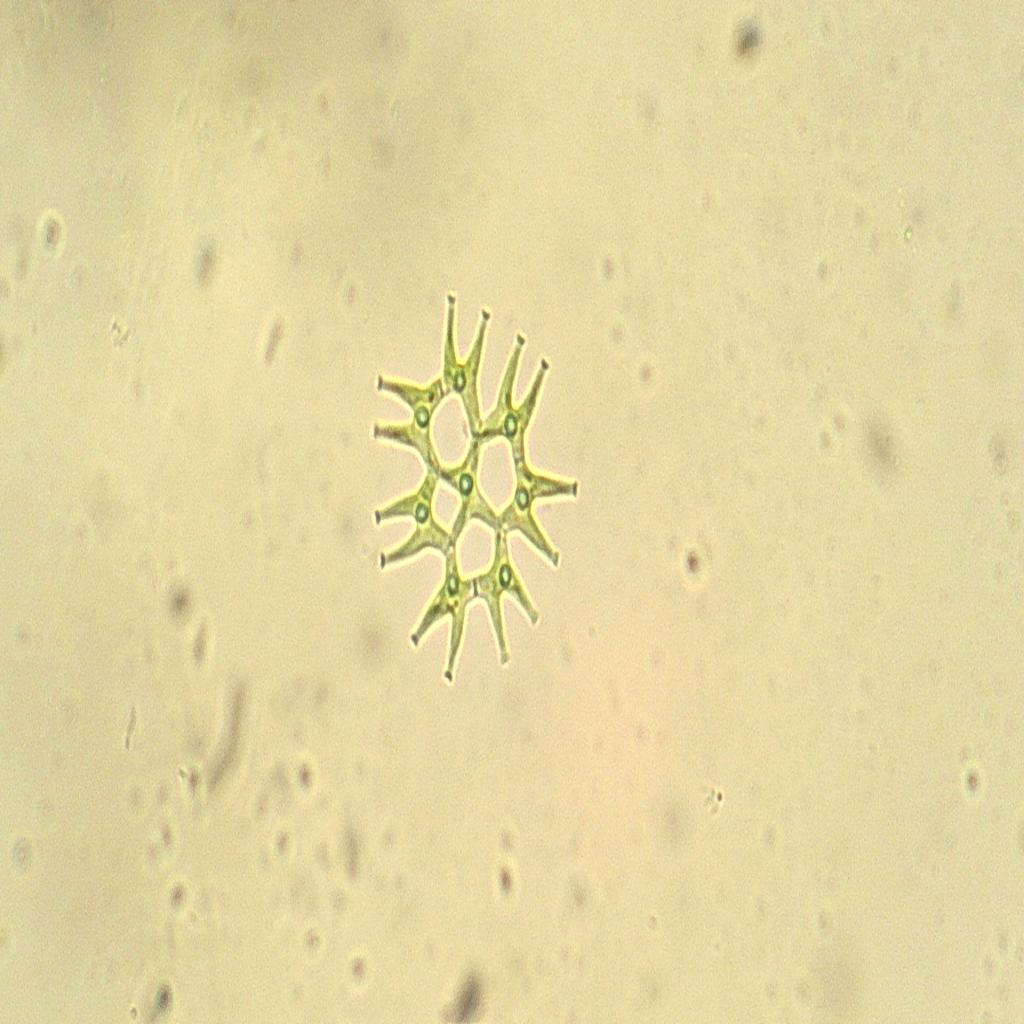Pediastrum_75T: (362, 279, 585, 693)
